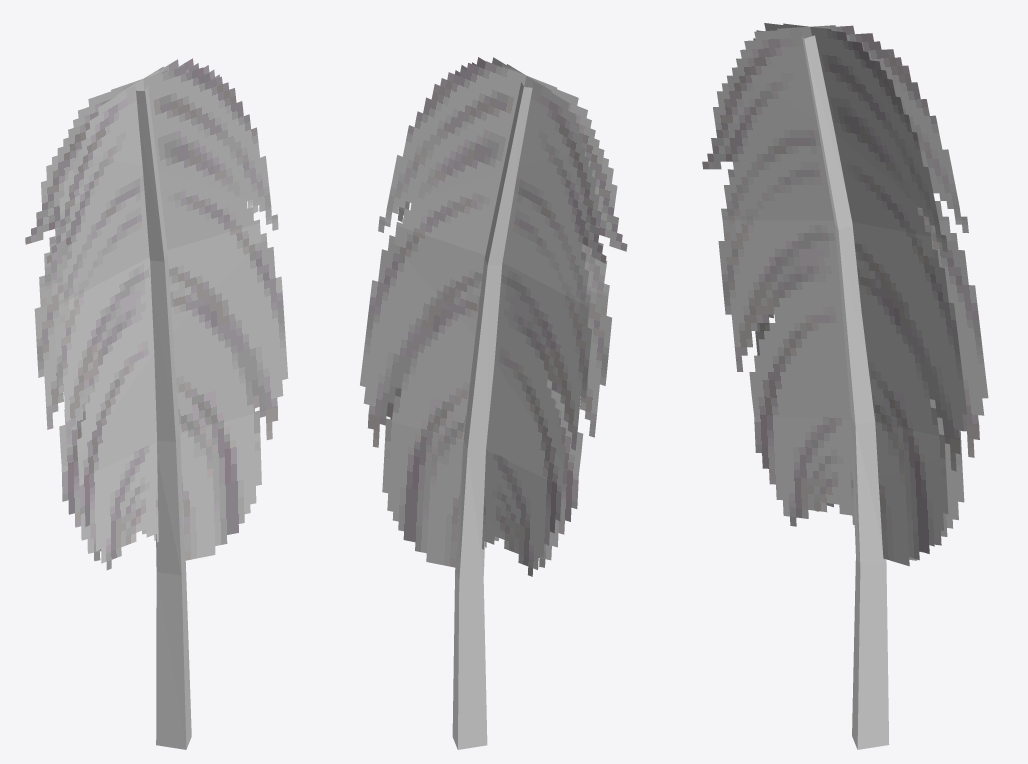
File: feather.obj
3 views of the same model, side by side, from view 1: azimuth 30°, elevation 25°; view 2: azimuth 150°, elevation 25°; view 3: azimuth 330°, elevation 25° (orthographic). The views are drawn at different scales.
Parts seen in each view (by area): view 1: feather; view 2: feather; view 3: feather.
Part boxes in pixels (x1,y1,x2,y2): feather: (25, 58, 288, 749); feather: (360, 57, 627, 749); feather: (702, 23, 988, 749).
Bounding box in the file's own units: 10.15 × 24.21 × 2.41.
2 materials, 1 textured.
